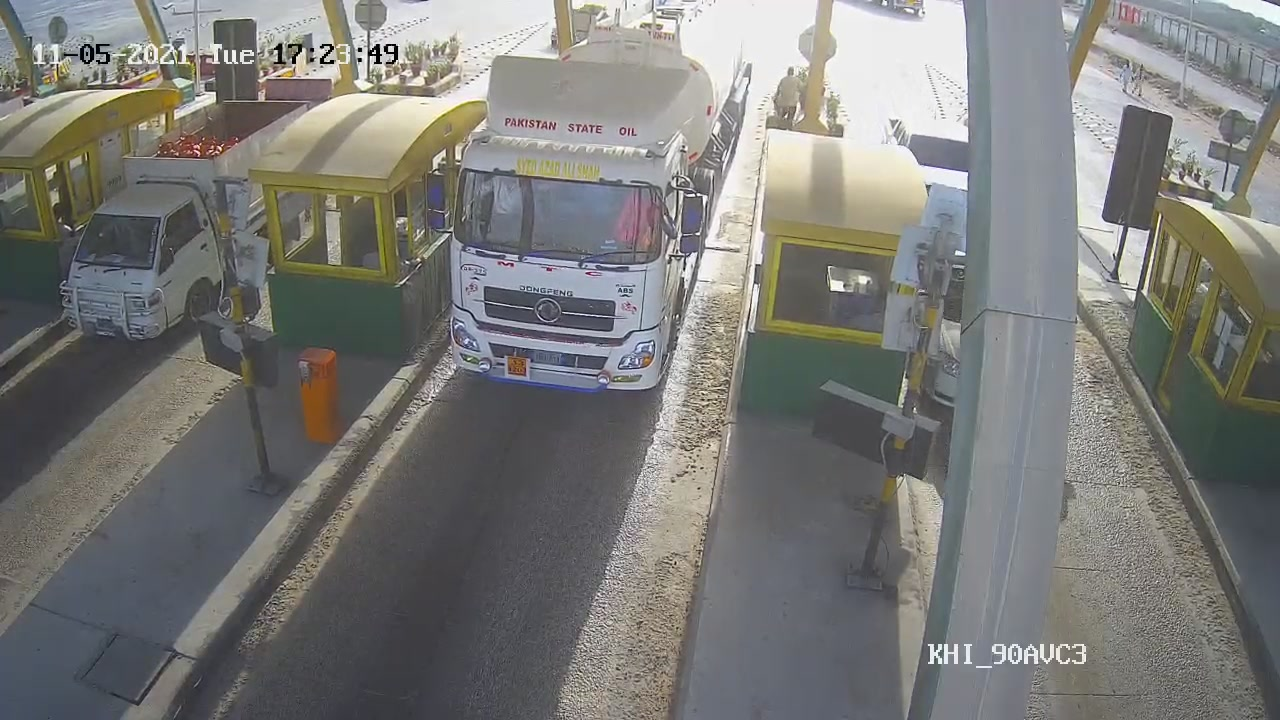F6: (441, 1, 746, 395)
